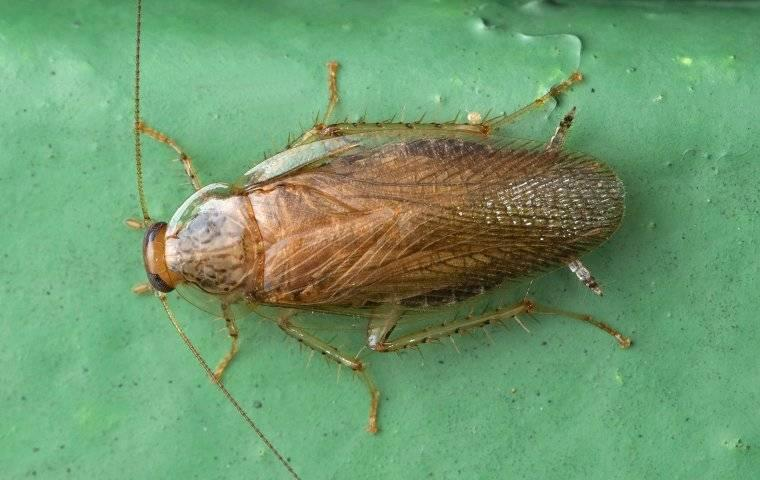cockroach: (132, 105, 633, 336)
